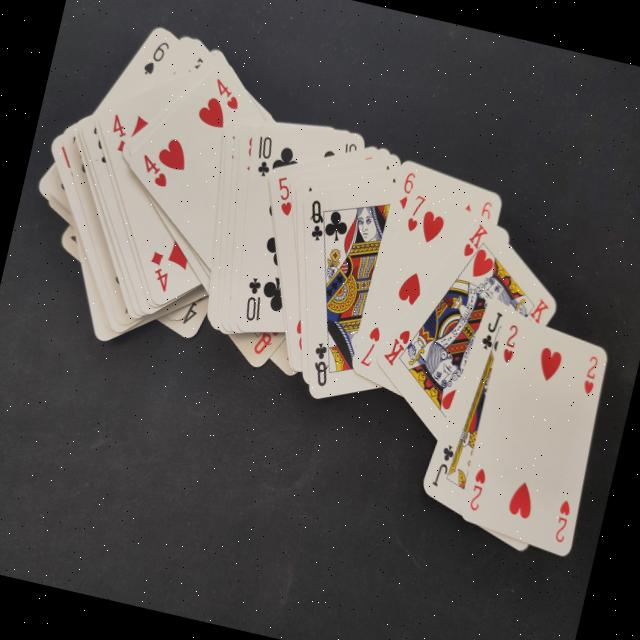10c: (238, 272, 272, 326), (248, 131, 282, 181)
2h: (465, 459, 492, 514), (550, 494, 576, 544), (579, 350, 605, 398), (498, 317, 522, 365)
4d: (142, 245, 178, 293), (103, 110, 137, 156)
4h: (132, 149, 176, 196), (208, 75, 246, 115)
5h: (268, 170, 302, 218)
6d: (392, 166, 422, 214)
6s: (138, 34, 176, 83)
7h: (358, 320, 384, 368), (402, 192, 429, 234)
Jc: (426, 433, 461, 495), (476, 304, 506, 352)
Kh: (379, 318, 419, 371), (459, 220, 491, 262)
Qc: (304, 336, 340, 389), (301, 198, 333, 242)
